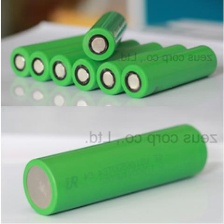battery: (20, 121, 209, 219), (119, 42, 220, 101), (93, 42, 188, 98), (69, 40, 165, 92), (46, 37, 142, 88), (27, 35, 115, 83), (8, 33, 90, 80), (79, 7, 129, 64)
